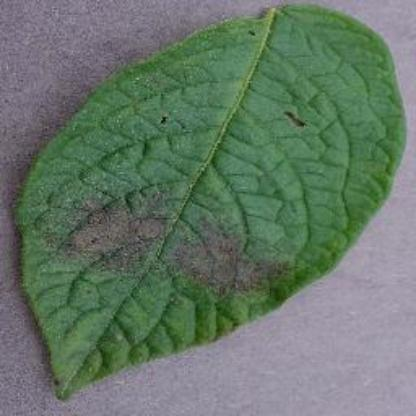Late-Blight: (12, 7, 406, 401)
